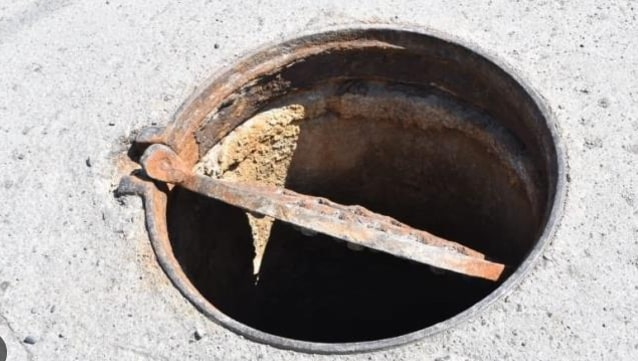open_manhole: (156, 36, 554, 335)
